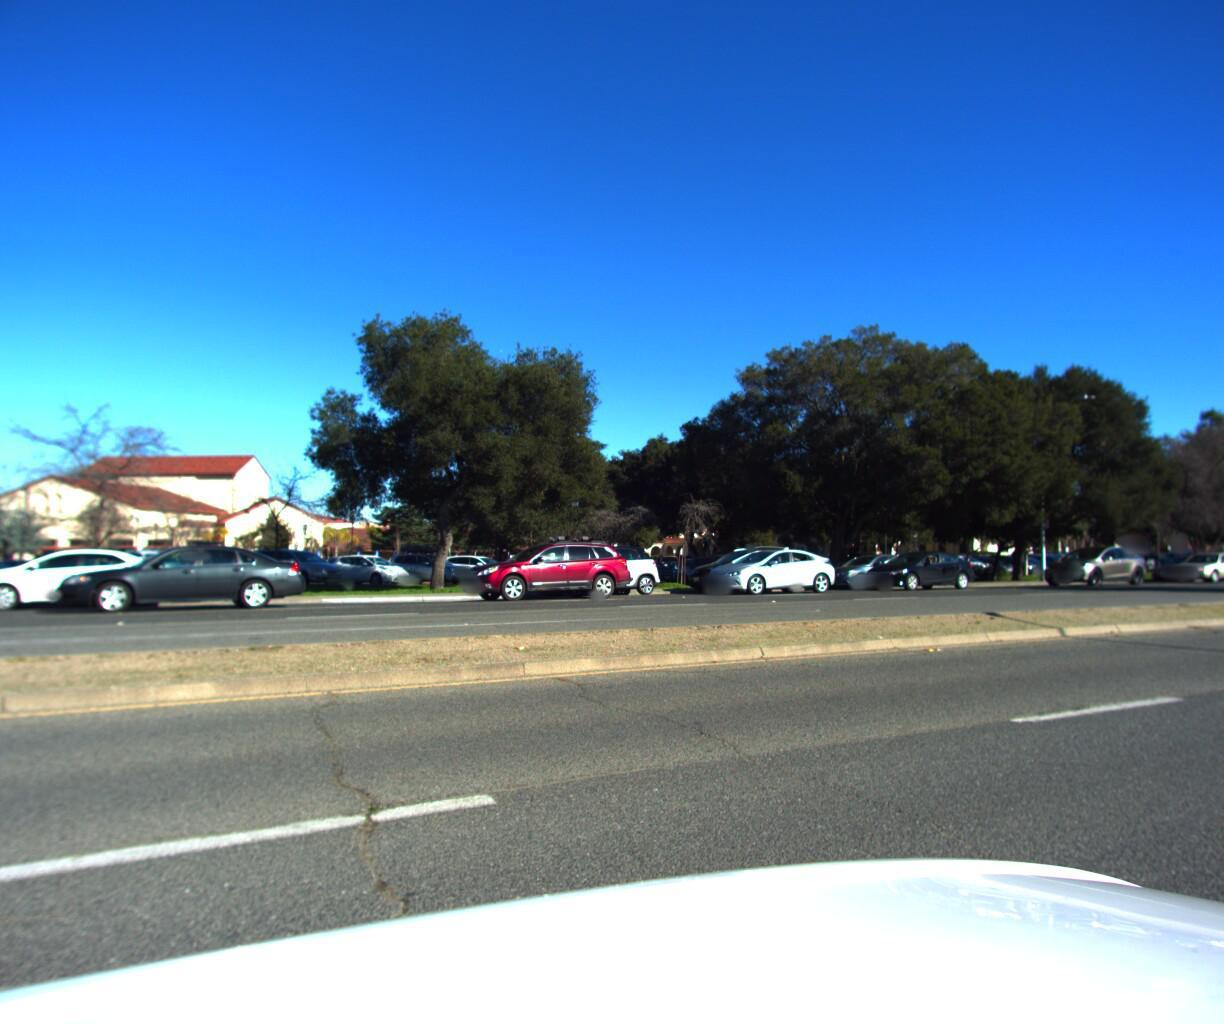car: (54, 540, 315, 617), (453, 530, 640, 602), (0, 545, 184, 616), (508, 540, 666, 600), (694, 544, 842, 594), (679, 541, 806, 593), (854, 548, 977, 590), (1033, 540, 1146, 583), (812, 550, 923, 589), (1140, 548, 1221, 577), (1154, 548, 1224, 580), (1200, 551, 1224, 578)
